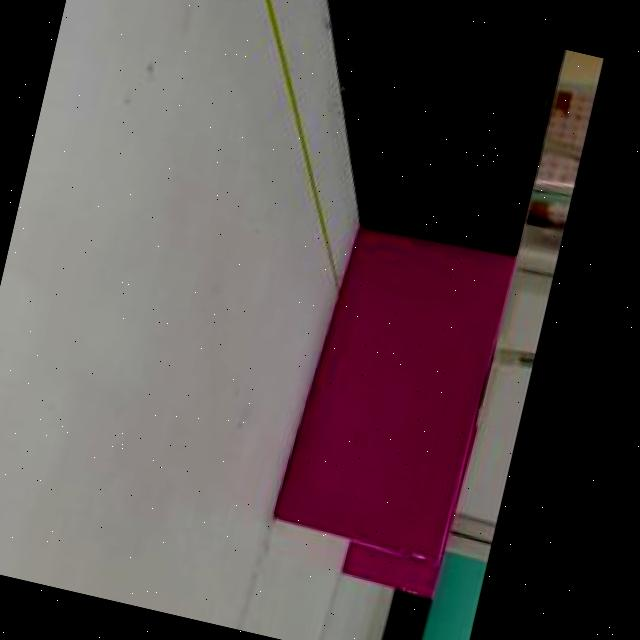xparking: (274, 225, 511, 556)
